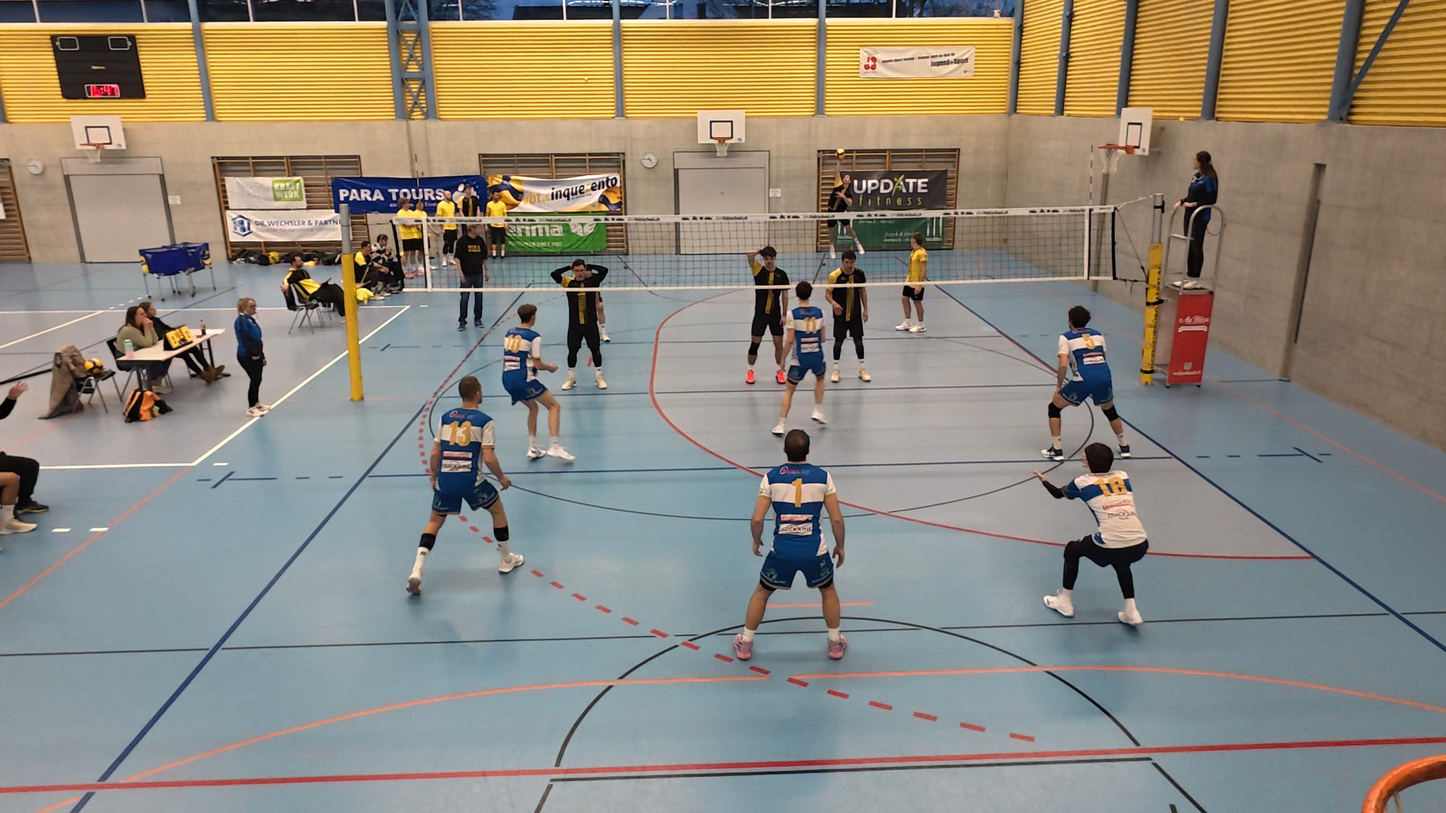Player: (726, 431, 848, 661), (408, 375, 523, 595), (1034, 441, 1150, 630), (1044, 305, 1133, 463), (501, 303, 571, 463), (770, 281, 828, 433), (550, 255, 608, 393), (744, 248, 790, 387), (827, 250, 873, 382), (894, 234, 928, 334)
Serve: (822, 145, 867, 260)
ball: (834, 145, 846, 162)
